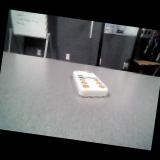domino: (73, 71, 108, 97)
